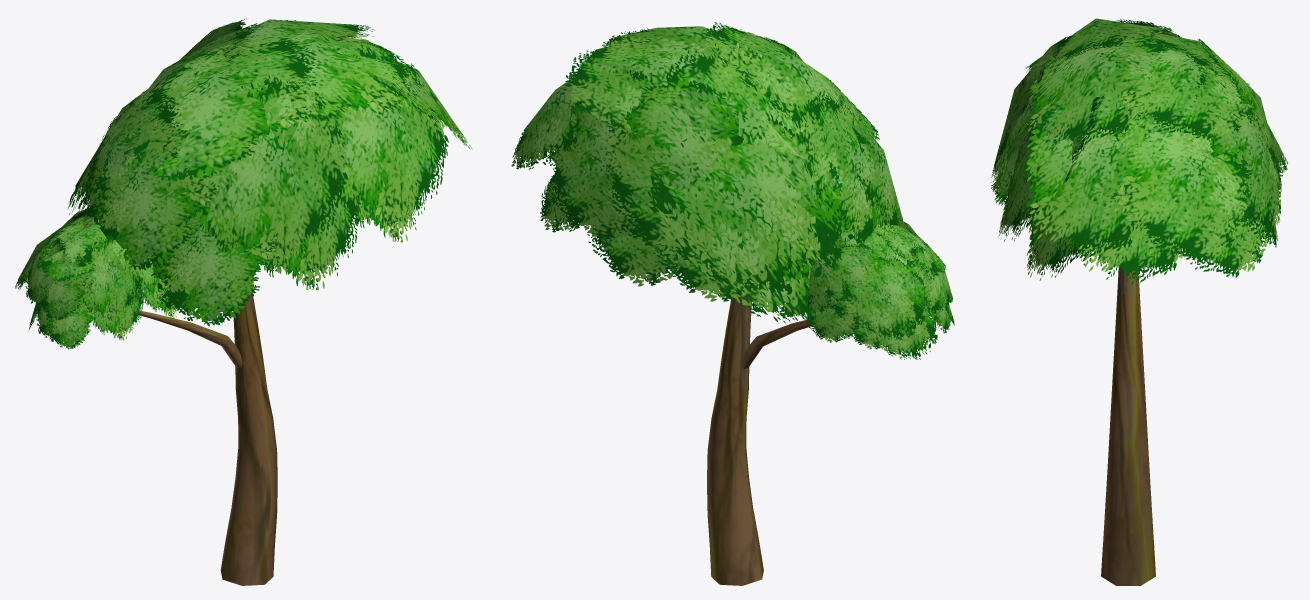
File: Normal tree_1 (1).fbx
The picture shows the model from 3 angles, left to right: view 1: azimuth 30°, elevation 25°; view 2: azimuth 150°, elevation 25°; view 3: azimuth 270°, elevation 25°; orthographic projection. The views are drawn at different scales.
Visible parts, largest first — view 1: pDisc24Shape, New_tree_2; view 2: pDisc24Shape, New_tree_2; view 3: pDisc24Shape, New_tree_2.
Part boxes in pixels (left/top/right/bottom): pDisc24Shape: left=15, top=18, right=472, bottom=349; New_tree_2: left=138, top=33, right=330, bottom=585; pDisc24Shape: left=511, top=22, right=954, bottom=359; New_tree_2: left=655, top=36, right=812, bottom=585; pDisc24Shape: left=991, top=18, right=1287, bottom=284; New_tree_2: left=1101, top=79, right=1155, bottom=585.
Bounding box in the file's own units: 5.36 × 6.51 × 3.32.
